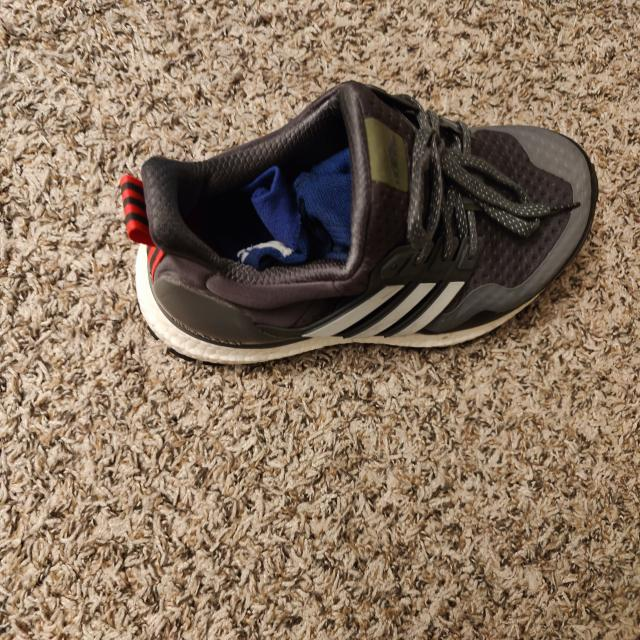black shoes: (139, 86, 599, 370)
